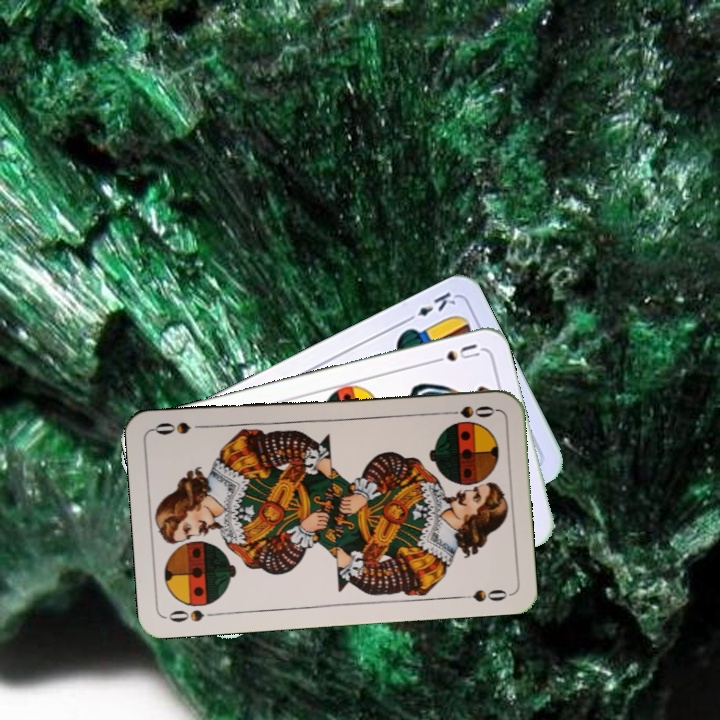EK: (401, 287, 459, 325)
SO: (439, 401, 499, 421), (165, 605, 207, 625)
SU: (425, 339, 483, 367)
